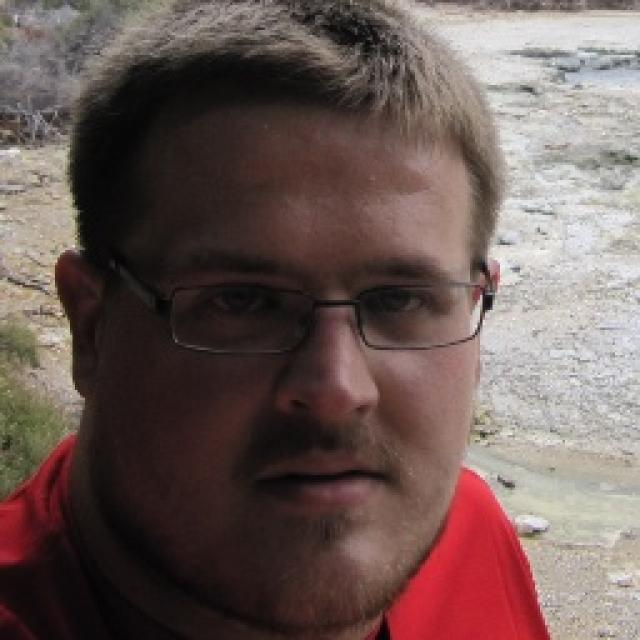earlobe: (70, 356, 98, 404)
eye: (203, 285, 270, 316), (371, 288, 425, 316)
nose: (292, 405, 370, 456)
wholeear: (54, 250, 99, 404)
